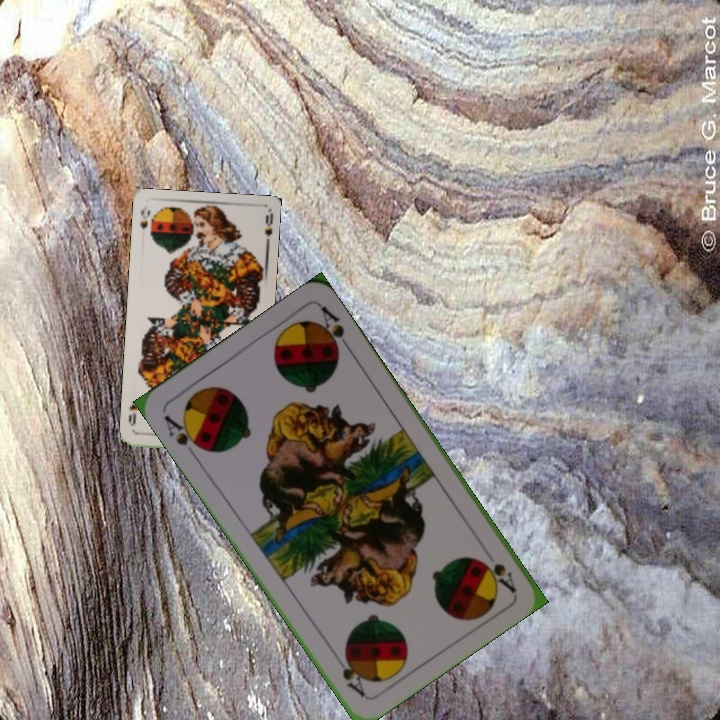SA: (159, 410, 208, 454), (477, 555, 519, 595)
SO: (136, 205, 153, 231)
